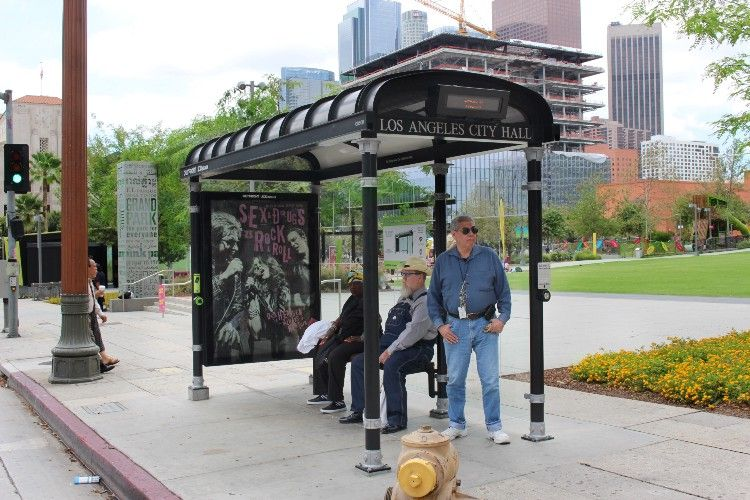Person: (429, 212, 511, 444)
